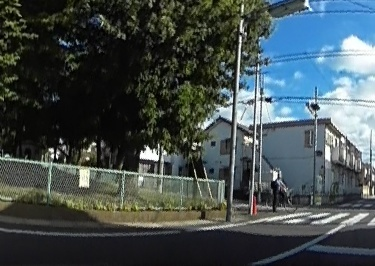person: (272, 174, 283, 210)
